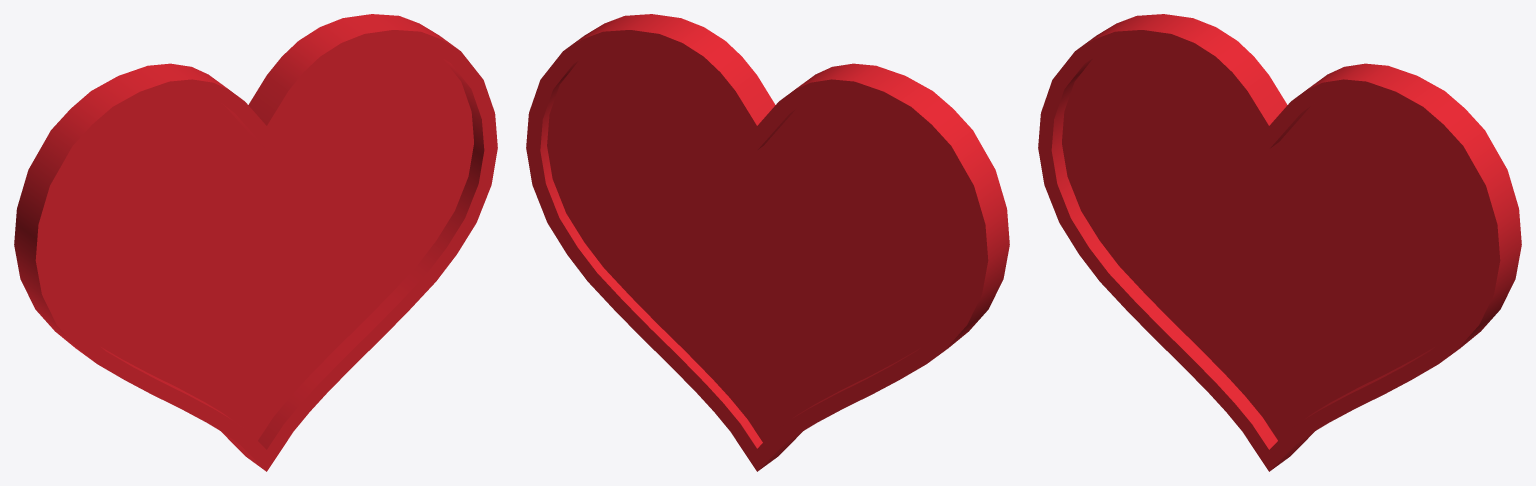
Rendered from Heart.fbx.
The picture shows the model from 3 angles, left to right: view 1: azimuth 30°, elevation 25°; view 2: azimuth 150°, elevation 25°; view 3: azimuth 330°, elevation 25°; orthographic projection.
Parts seen in each view (by area): view 1: Heart; view 2: Heart; view 3: Heart.
Part boxes in pixels (box(x1,y1,x2,y2)): Heart: box(14, 14, 497, 471); Heart: box(526, 14, 1009, 471); Heart: box(1038, 14, 1521, 471).
Size of the model in its own units: 51.44 by 44.06 by 4.17.
1 material, 1 textured.
